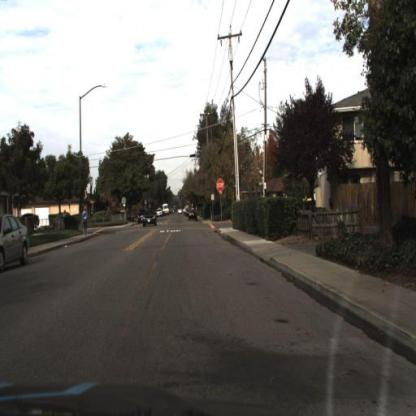car: (1, 206, 32, 280), (141, 208, 159, 231), (188, 207, 200, 224)
pedestrian: (80, 203, 90, 243), (79, 206, 91, 233)
